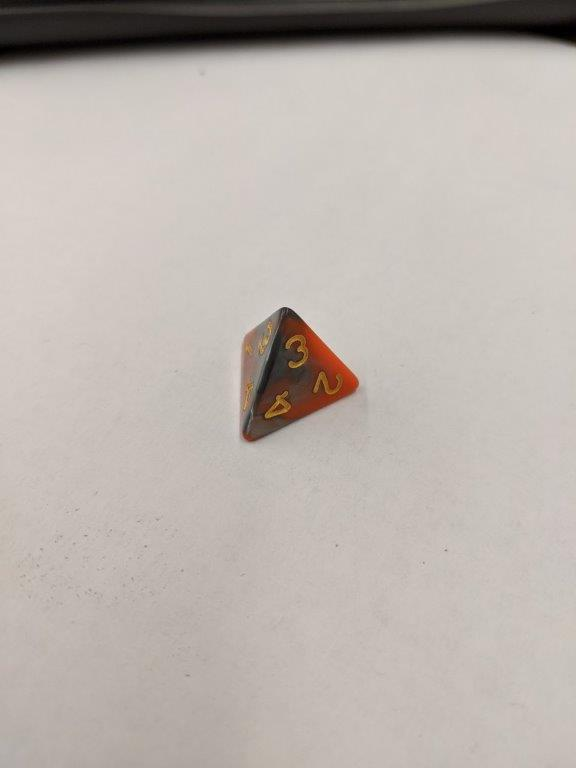d4-3: (229, 305, 362, 444)
